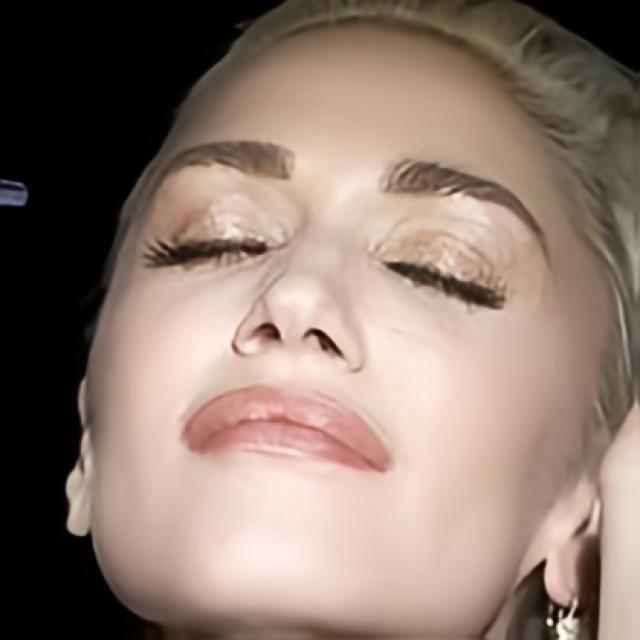neutral: (88, 9, 578, 640)
